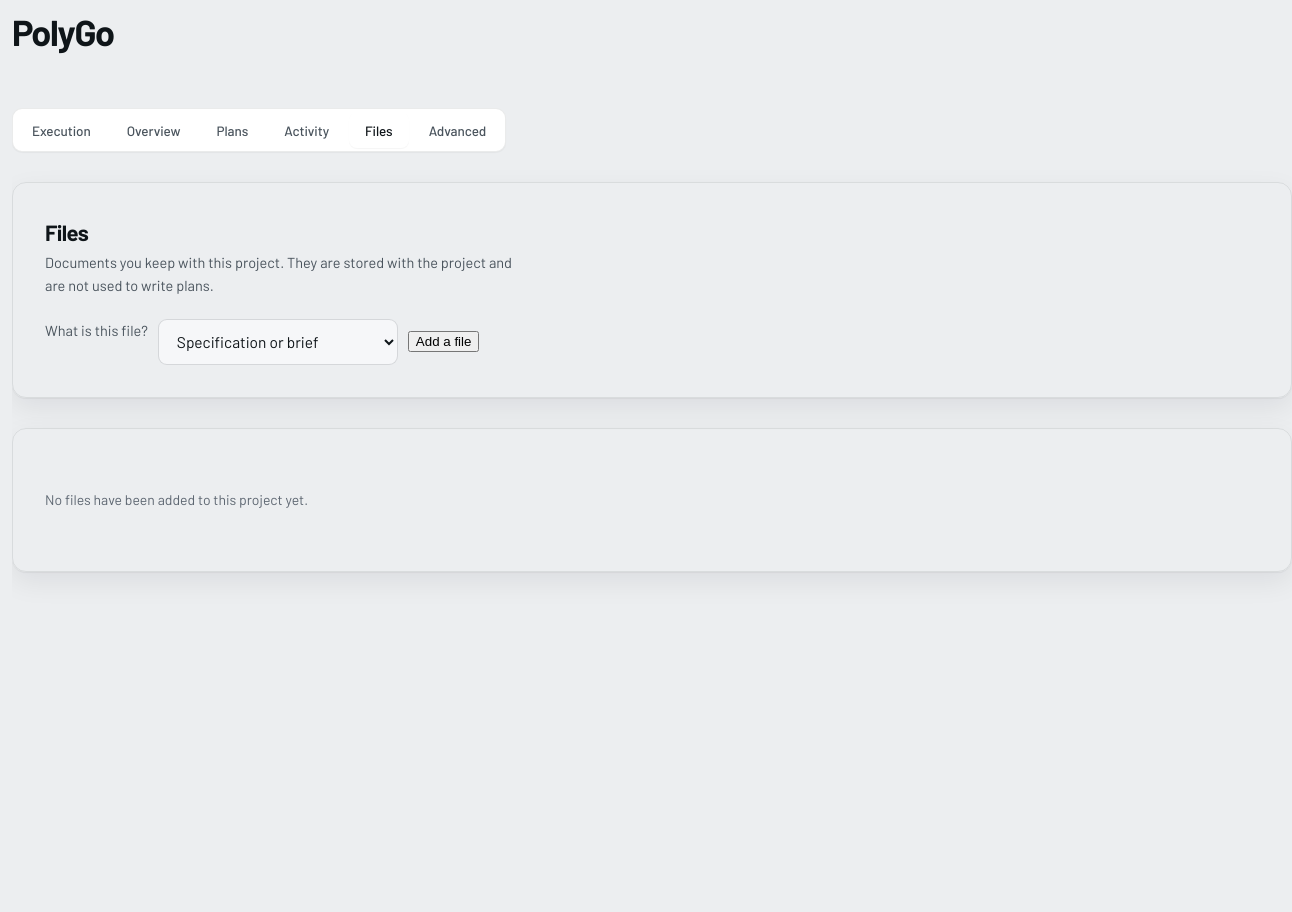
it: adding a file dispatches no governed command and names no destination › a refusal shows the host's sentence and nothing is claimed to have been added
Click the button "Add a file": (444, 342) [408,331,479,352]
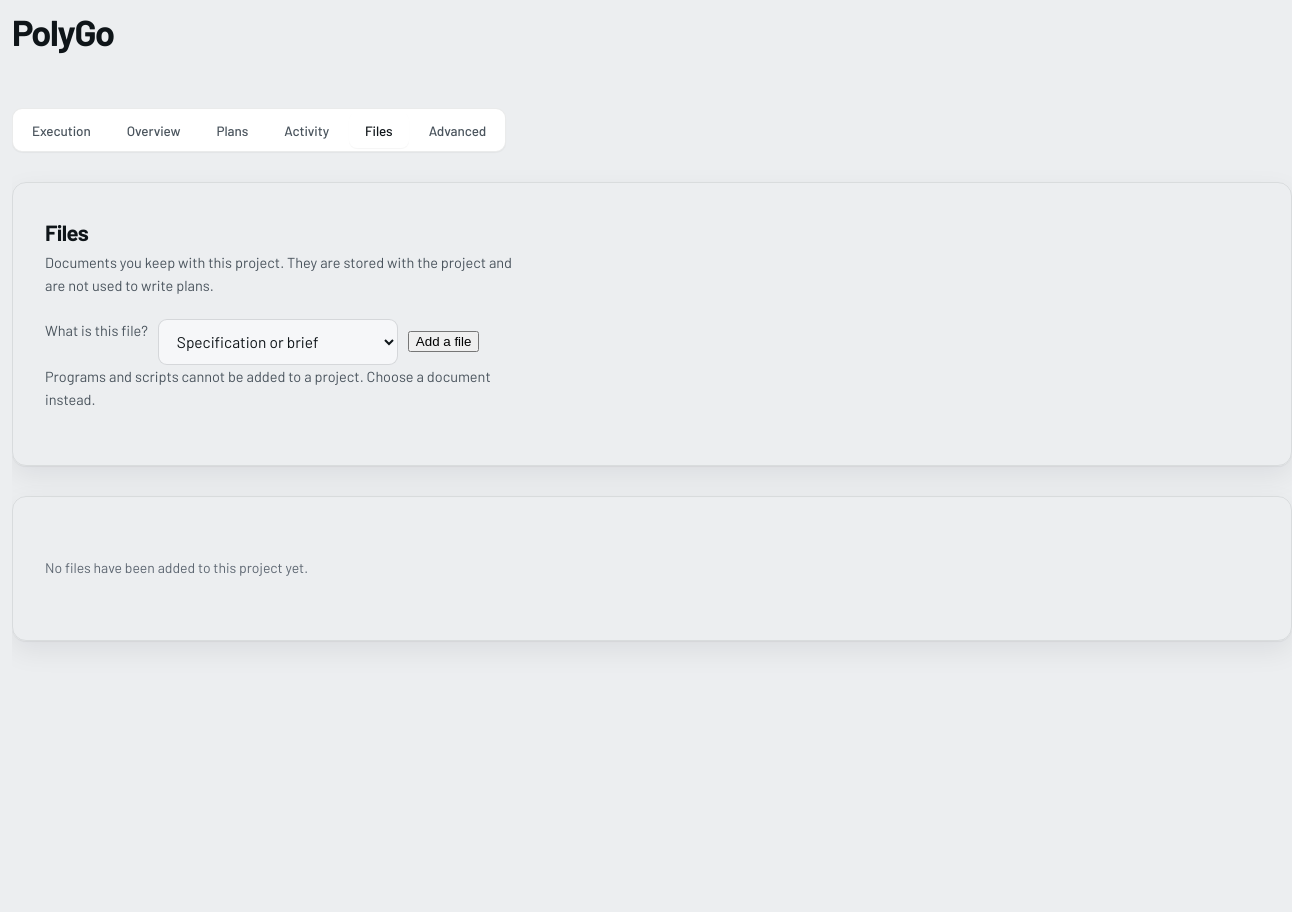
expect the text "No files have been added to this project yet." is shown: met, box [45,559,308,576]
expect the text "Programs and scripts cannot be added to a project. Choose a document instead." is shown: met, box [45,365,520,411]
